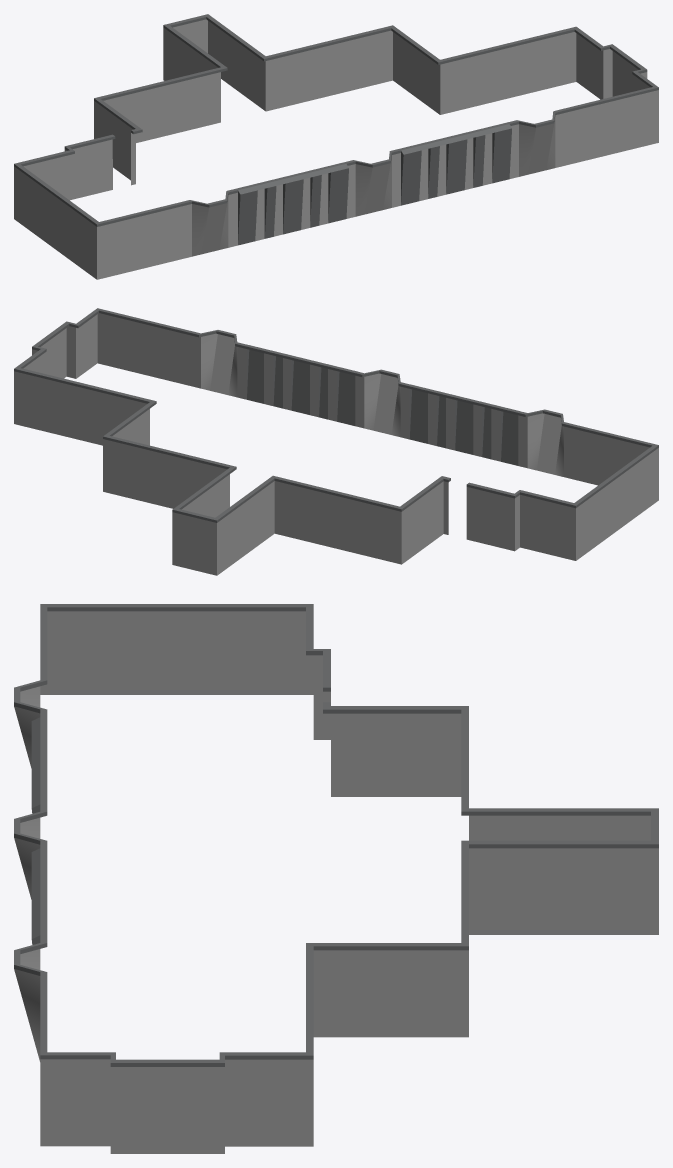
File: Bulkhead.fbx
3 renders of one model, top to bottom at view 1: azimuth 30°, elevation 25°; view 2: azimuth 150°, elevation 25°; view 3: azimuth 270°, elevation 25°, orthographic. The views are drawn at different scales.
Visible parts, largest first — view 1: Bulkhead; view 2: Bulkhead; view 3: Bulkhead.
Boxes of the visible parts, x1,y1,x2,y2 form: Bulkhead: (14,14,658,279); Bulkhead: (14,308,658,575); Bulkhead: (14,604,658,1153).
Size of the model in its own units: 378 by 34.9 by 224.
